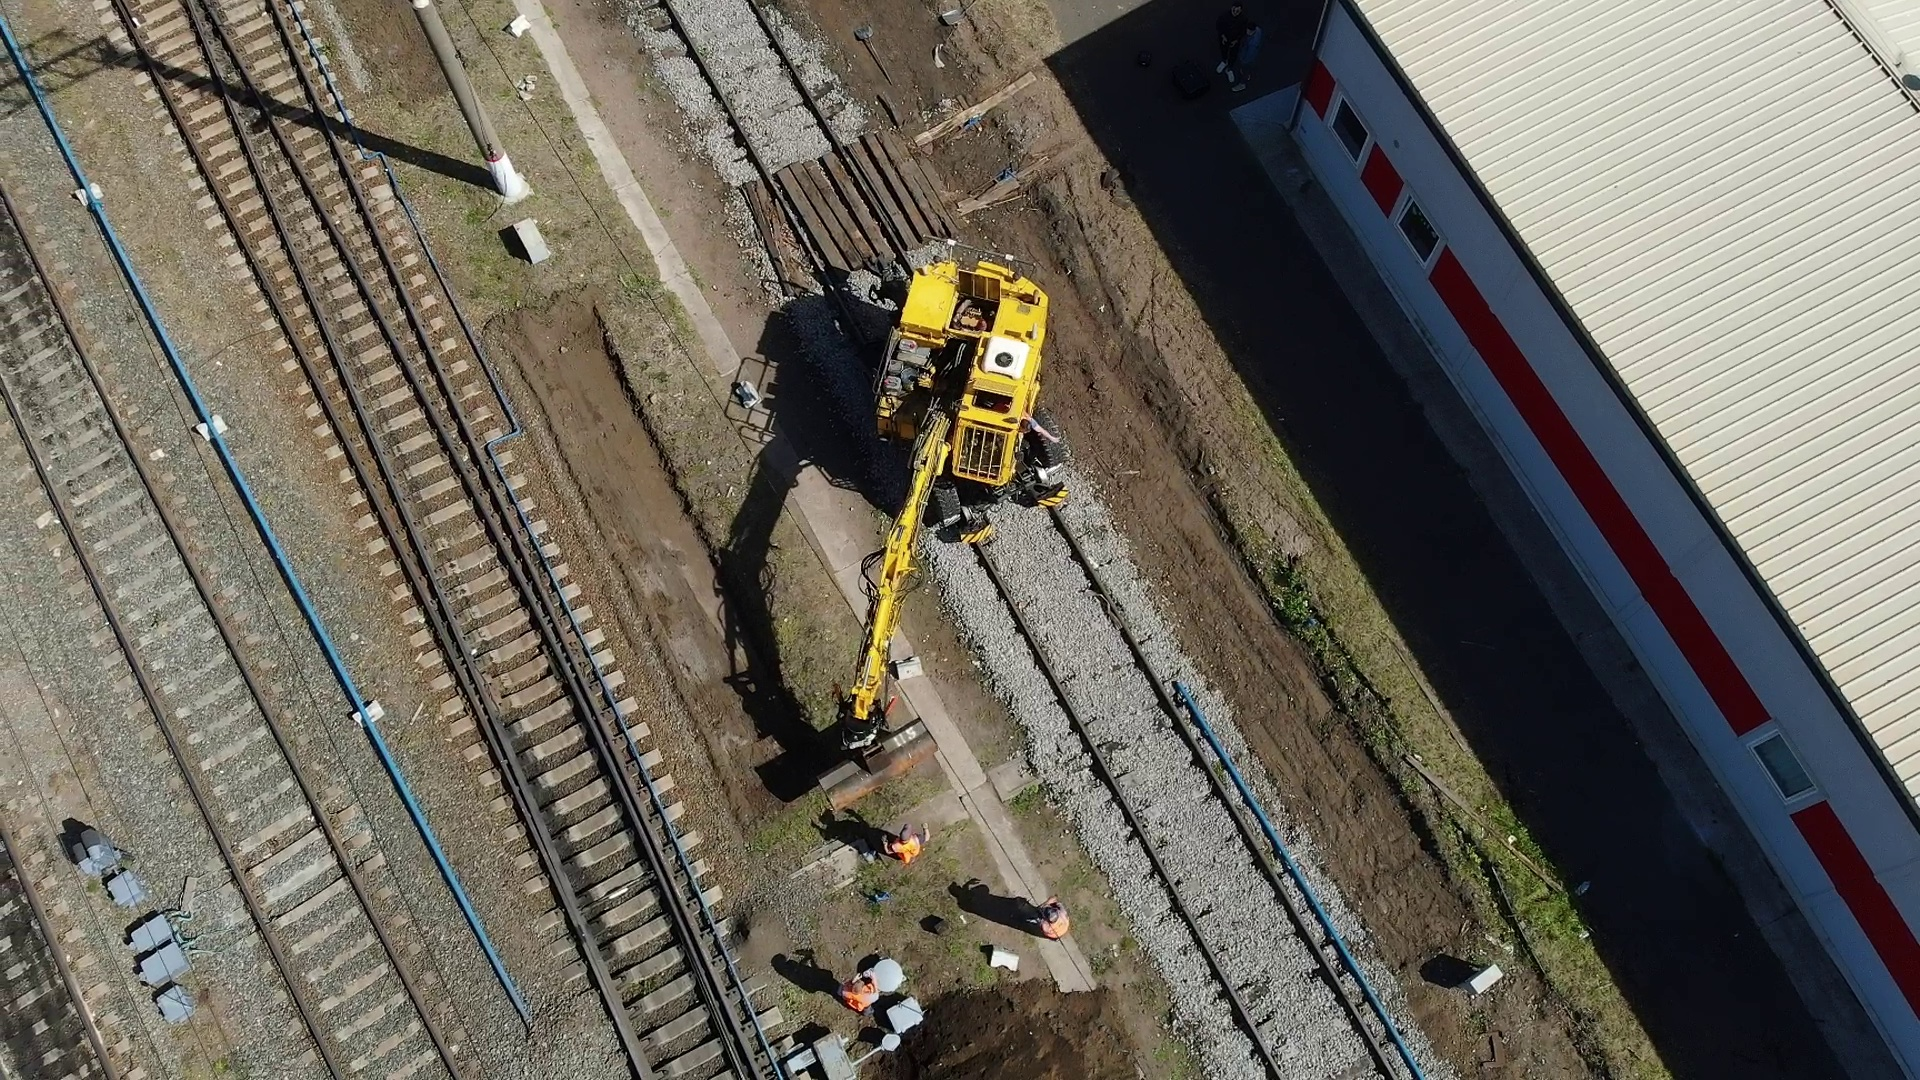kjtv: (865, 247, 1073, 525)
